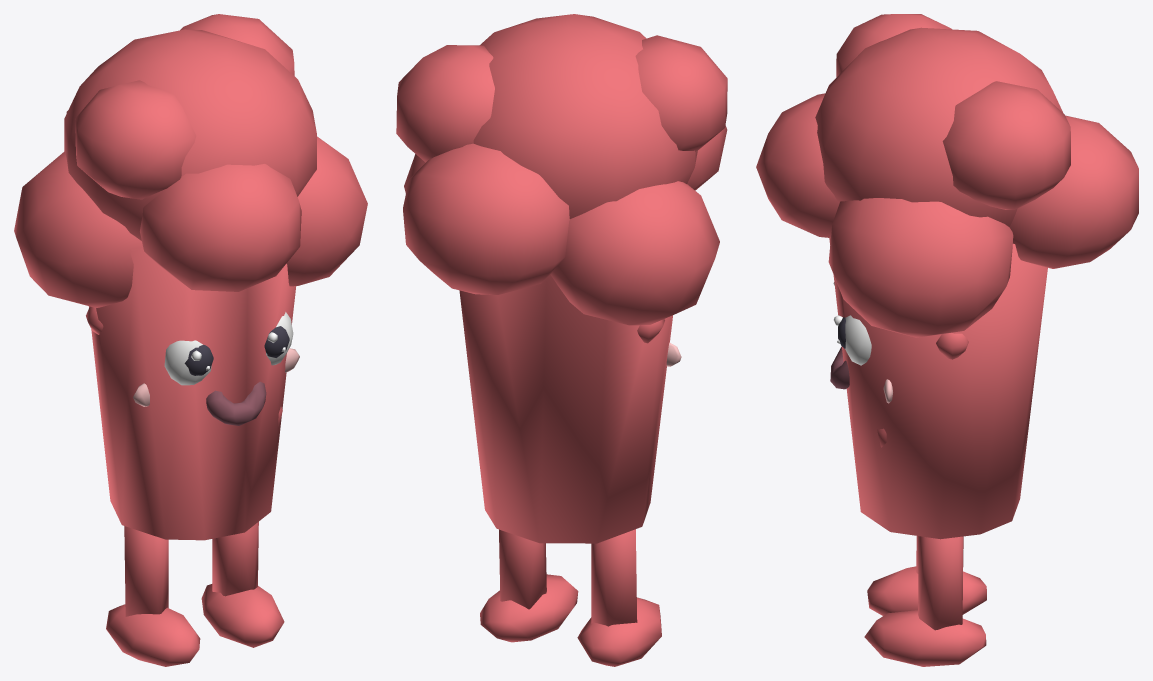
File: Broccoli.fbx
3 views of the same model, side by side, from view 1: azimuth 30°, elevation 25°; view 2: azimuth 150°, elevation 25°; view 3: azimuth 270°, elevation 25° (orthographic). The views are drawn at different scales.
Parts seen in each view (by area): view 1: EX_Broccoli; view 2: EX_Broccoli; view 3: EX_Broccoli.
Part boxes in pixels (x1,y1,x2,y2): EX_Broccoli: (14,14,367,666); EX_Broccoli: (396,14,727,666); EX_Broccoli: (756,14,1138,666).
Size of the model in its own units: 116 by 220 by 127.
